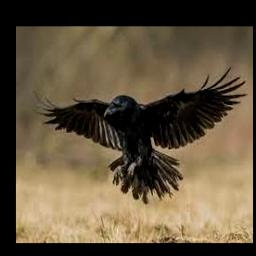Crow: (32, 65, 247, 203)
